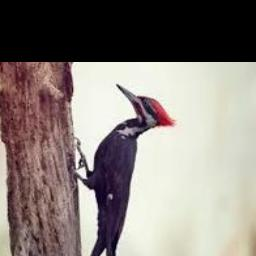Woodpecker: (73, 83, 175, 256)
